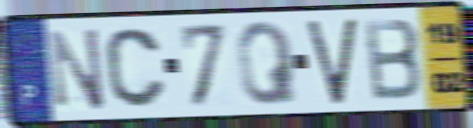7: (180, 20, 230, 111)
B: (361, 16, 425, 103)
C: (102, 25, 170, 110)
N: (46, 25, 108, 113)
Q: (234, 19, 301, 108)
V: (304, 14, 359, 107)
